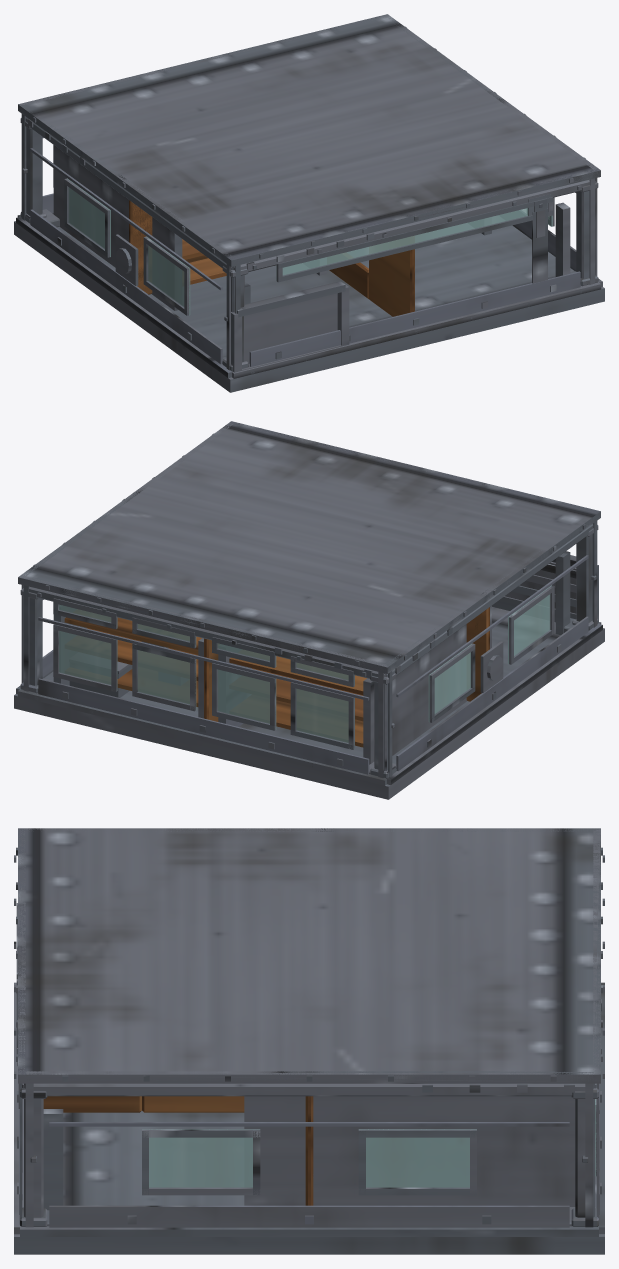
3 renders of one model, top to bottom at view 1: azimuth 30°, elevation 25°; view 2: azimuth 150°, elevation 25°; view 3: azimuth 270°, elevation 25°, orthographic. The views are drawn at different scales.
Visible parts, largest first — view 1: SM_HDBF_BoxFarm_Advanced_LOD0; view 2: SM_HDBF_BoxFarm_Advanced_LOD0; view 3: SM_HDBF_BoxFarm_Advanced_LOD0.
Part boxes in pixels (<box>): SM_HDBF_BoxFarm_Advanced_LOD0: <box>14,14,604,392</box>; SM_HDBF_BoxFarm_Advanced_LOD0: <box>14,421,604,799</box>; SM_HDBF_BoxFarm_Advanced_LOD0: <box>14,828,604,1254</box>.
Bounding box in the file's own units: 3 × 1 × 3.
Materials: 4 (4 with a texture image).
